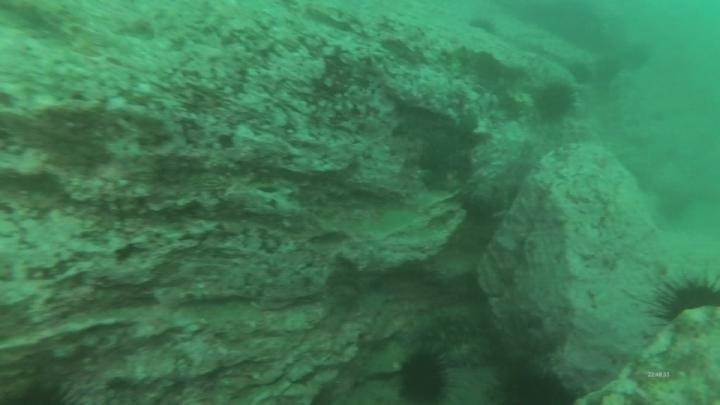echinus: (649, 269, 720, 330), (488, 360, 578, 405), (393, 346, 454, 405), (531, 79, 578, 124), (621, 40, 653, 74), (593, 54, 623, 86), (466, 14, 499, 38), (567, 59, 594, 87)
holothurian: (392, 305, 485, 350)
